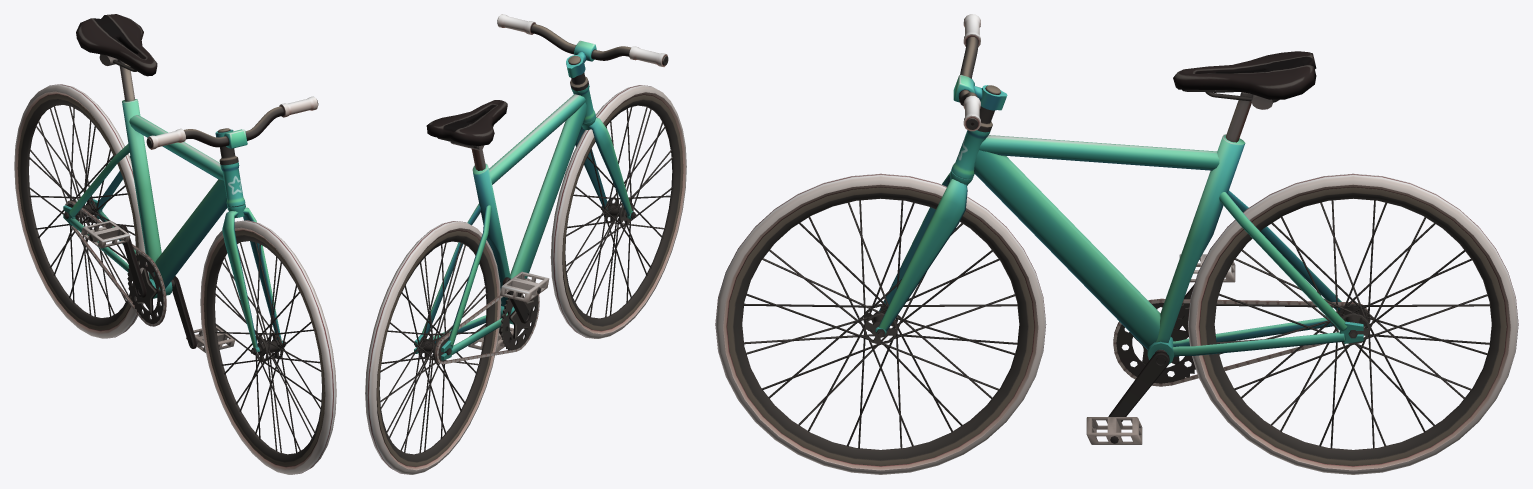
Rendered from bicycle.glb.
3 renders of one model, left to right at view 1: azimuth 30°, elevation 25°; view 2: azimuth 150°, elevation 25°; view 3: azimuth 270°, elevation 25°, orthographic. The views are drawn at different scales.
Visible parts, largest first — view 1: mesh_bike_mesh_base bike_0; view 2: mesh_bike_mesh_base bike_0; view 3: mesh_bike_mesh_base bike_0.
Boxes of the visible parts, x1,y1,x2,y2 form: mesh_bike_mesh_base bike_0: (14, 14, 336, 474); mesh_bike_mesh_base bike_0: (365, 14, 686, 474); mesh_bike_mesh_base bike_0: (715, 14, 1518, 474).
Size of the model in its own units: 49.77 by 92.85 by 164.
Materials: 1 (1 with a texture image).
